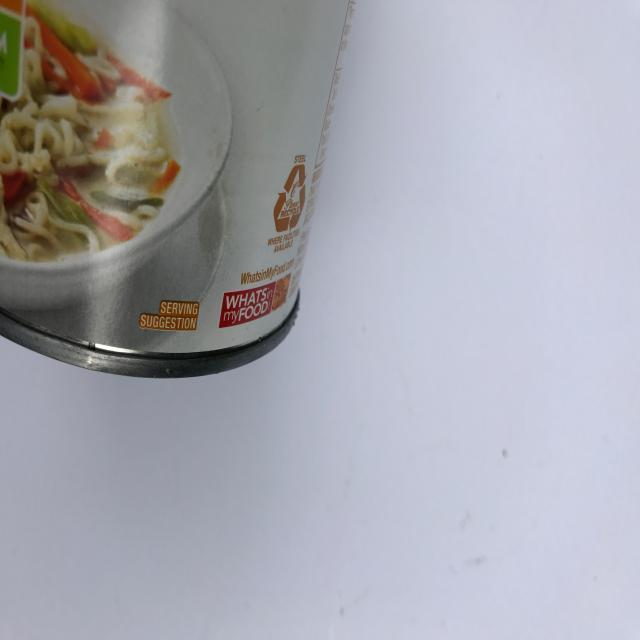metal: (1, 0, 358, 379)
